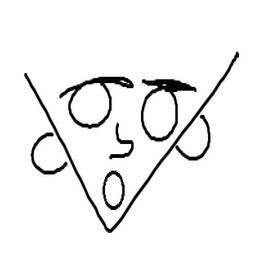ear: (26, 125, 75, 182), (177, 118, 214, 174)
empty_eye: (133, 81, 182, 143), (68, 71, 115, 131)
nose: (108, 122, 135, 160)
open_mouth: (92, 169, 130, 212)
